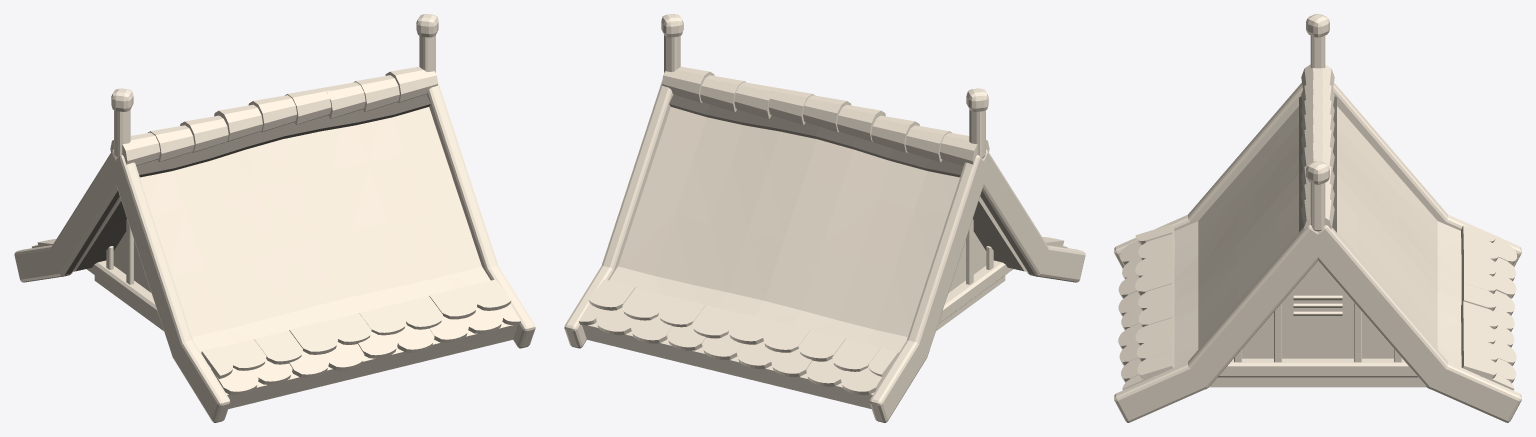
The model's file is SM_VK_WatRoofS_Single.fbx.
3 renders of one model, left to right at view 1: azimuth 30°, elevation 25°; view 2: azimuth 150°, elevation 25°; view 3: azimuth 270°, elevation 25°, orthographic.
Parts seen in each view (by area): view 1: SM_VK_WatRoofS_Single.001; view 2: SM_VK_WatRoofS_Single.001; view 3: SM_VK_WatRoofS_Single.001.
Boxes of the visible parts, left/top/right/bottom form: SM_VK_WatRoofS_Single.001: left=14, top=14, right=535, bottom=422; SM_VK_WatRoofS_Single.001: left=564, top=14, right=1085, bottom=422; SM_VK_WatRoofS_Single.001: left=1114, top=14, right=1521, bottom=422.
Bounding box in the file's own units: 4.66 × 3.56 × 5.1.
